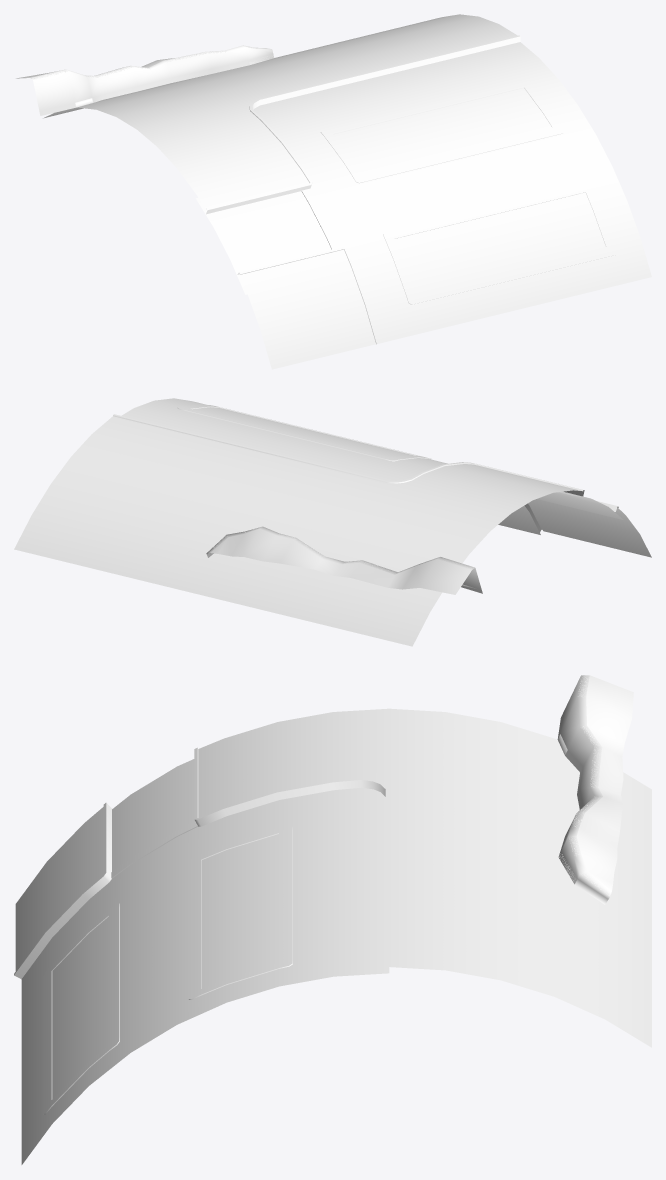
File: grd_Ex_e_nw_0.dae
The picture shows the model from 3 angles, top to bottom: view 1: azimuth 30°, elevation 25°; view 2: azimuth 150°, elevation 25°; view 3: azimuth 270°, elevation 25°; orthographic projection. The views are drawn at different scales.
Parts seen in each view (by area): view 1: grass_1_0, road0_3_0, renga0_2_0, cliff5_0_0; view 2: grass_1_0, road0_3_0, renga0_2_0, cliff5_0_0; view 3: grass_1_0, road0_3_0, renga0_2_0, cliff5_0_0.
Boxes of the visible parts, x1=… form: grass_1_0: x1=16, y1=14, x2=605, y2=369; road0_3_0: x1=196, y1=42, x2=651, y2=344; renga0_2_0: x1=206, y1=35, x2=616, y2=344; cliff5_0_0: x1=30, y1=45, x2=274, y2=115; grass_1_0: x1=14, y1=407, x2=651, y2=646; road0_3_0: x1=121, y1=398, x2=623, y2=534; renga0_2_0: x1=113, y1=404, x2=618, y2=532; cliff5_0_0: x1=206, y1=526, x2=481, y2=590; grass_1_0: x1=15, y1=675, x2=651, y2=1098; road0_3_0: x1=21, y1=759, x2=389, y2=1164; renga0_2_0: x1=14, y1=747, x2=389, y2=1114; cliff5_0_0: x1=558, y1=675, x2=611, y2=899.
Size of the model in its own units: 768 by 267 by 735.
4 materials, 1 textured.
